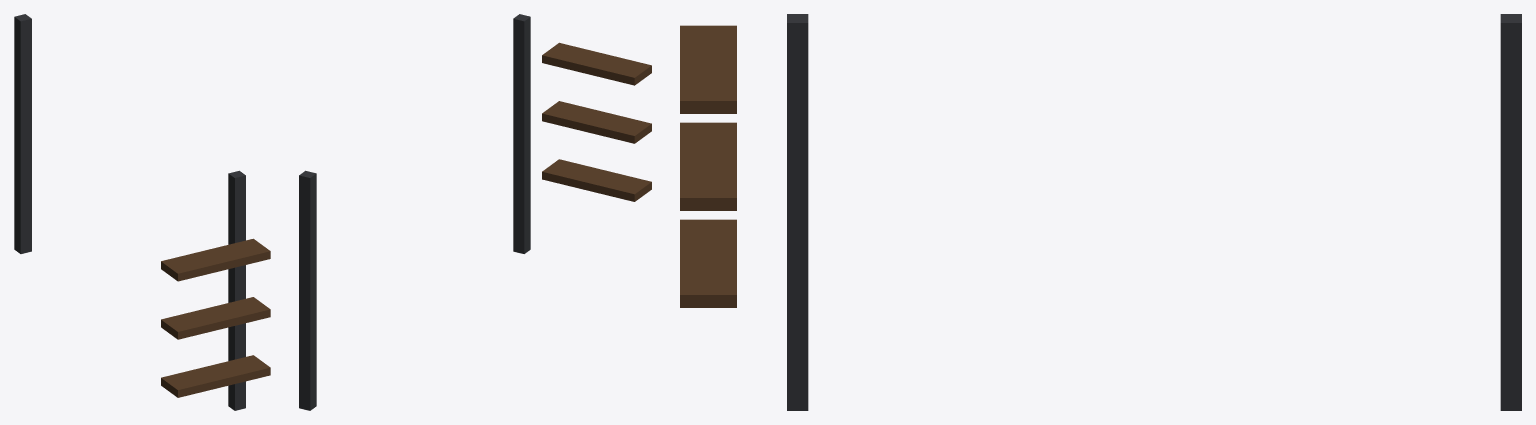
File: step-legs.glb
3 views of the same model, side by side, from view 1: azimuth 30°, elevation 25°; view 2: azimuth 150°, elevation 25°; view 3: azimuth 270°, elevation 25° (orthographic). The views are drawn at different scales.
Visible parts, largest first — view 1: #5a3e26_noshadow, #34363a metal 0.5 rough 0.5; view 2: #34363a metal 0.5 rough 0.5, #5a3e26_noshadow; view 3: #34363a metal 0.5 rough 0.5, #5a3e26_noshadow.
Boxes of the visible parts, x1,y1,x2,y2 form: #5a3e26_noshadow: (161,238,270,397); #34363a metal 0.5 rough 0.5: (14,14,245,410); #34363a metal 0.5 rough 0.5: (299,14,530,410); #5a3e26_noshadow: (542,42,651,201); #34363a metal 0.5 rough 0.5: (787,14,1521,410); #5a3e26_noshadow: (680,25,736,307).
Size of the model in its own units: 0.54 by 1.2 by 2.36.
